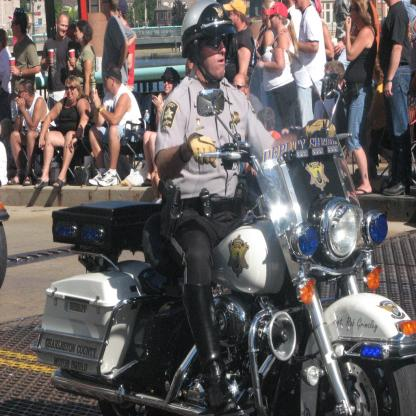Helmet: (179, 8, 242, 84)
